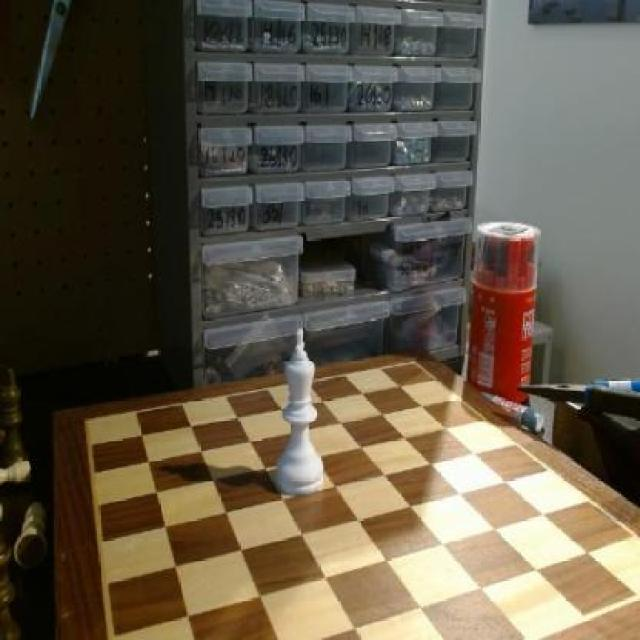white-bishop: (272, 323, 326, 499)
